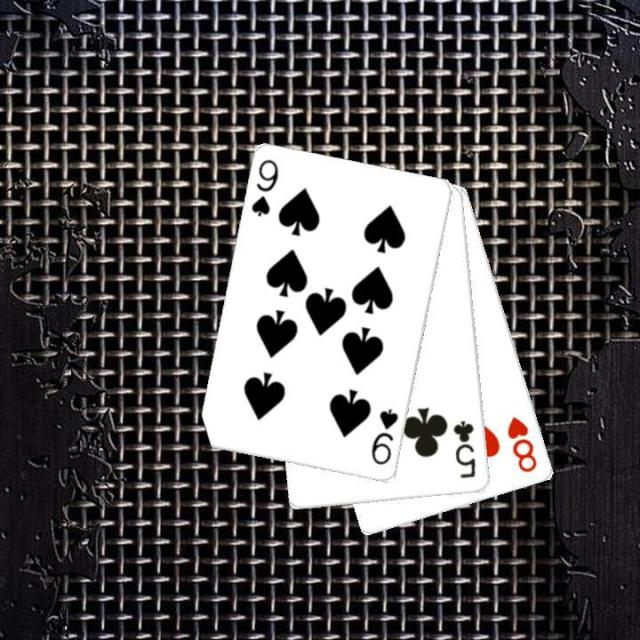5C: (450, 417, 478, 480)
8H: (503, 412, 540, 474)
9S: (367, 404, 401, 468), (248, 156, 281, 218)
